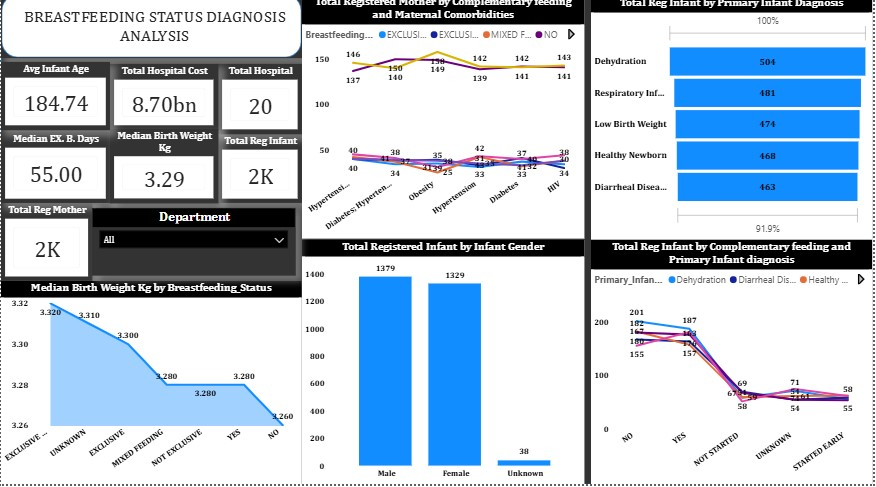

Layout of this report page (visuals, bound fields, positions):
{"tool":"powerbi","page":{"name":"Page 1","canvas":[1280,720],"ordinal":0},"visuals":[{"type":"shape","box":[0,0,1280,720.6],"z":0},{"type":"shape","box":[0,0,442.3,94],"z":1000},{"type":"textbox","box":[8.8,13.2,433.5,67.6],"z":2000},{"type":"cardVisual","title":"Total Reg Mother","fields":{"Data":["Clean_Breastfeeding.Total Registered Mother"]},"box":[0,307.4,134.4,114.2],"z":3000},{"type":"cardVisual","title":"Total Reg Infant","fields":{"Data":["Clean_Breastfeeding.Total Registered Infant"]},"box":[318.9,205.7,123.4,101.4],"z":4000},{"type":"cardVisual","title":"Total Hospital","fields":{"Data":["Clean_Breastfeeding.Total Hospital Visit"]},"box":[318.9,102.9,123.4,102.9],"z":5000},{"type":"cardVisual","title":"Total Hospital Cost","fields":{"Data":["Clean_Breastfeeding.Total Hospital Cost"]},"box":[160.2,102.9,158.7,97],"z":6000},{"type":"cardVisual","title":"Median EX. B. Days","fields":{"Data":["Clean_Breastfeeding.Median Exclusive Breastfeeding days"]},"box":[0,202.8,160.2,104.3],"z":7000},{"type":"cardVisual","title":"Median Birth Weight Kg","fields":{"Data":["Clean_Breastfeeding.Median Birth Weight Kg"]},"box":[160.2,198.4,158.7,108.7],"z":8000},{"type":"cardVisual","title":"Avg Infant Age ","fields":{"Data":["Clean_Breastfeeding.Avg Infant Age"]},"box":[0,99.9,160.2,99.9],"z":9000},{"type":"columnChart","title":"Total Registered Infant by Infant Gender","fields":{"Category":["Clean_Breastfeeding.Infant_Gender"],"Y":["Clean_Breastfeeding.Total Registered Infant"]},"box":[441.8,361.2,414.9,359.5],"z":10000},{"type":"lineChart","title":"Total Registered Mother by Complementary feeding and Maternal Comorbidities","fields":{"Category":["Clean_Breastfeeding.Maternal_Comorbidities"],"Y":["Clean_Breastfeeding.Total Registered Mother"],"Series":["Clean_Breastfeeding.Breastfeeding_Status"]},"box":[441.8,1.7,414.9,357.8],"z":11000},{"type":"funnel","title":"Total Reg Infant by Primary Infant Diagnosis","fields":{"Category":["Clean_Breastfeeding.Primary_Infant_Diagnosis"],"Y":["Clean_Breastfeeding.Total Registered Infant"]},"box":[866.8,3.4,413.2,357.8],"z":12000},{"type":"lineChart","title":"Total Reg Infant by Complementary feeding and Primary Infant diagnosis","fields":{"Category":["Clean_Breastfeeding.Complementary_Feeding"],"Series":["Clean_Breastfeeding.Primary_Infant_Diagnosis"],"Y":["Clean_Breastfeeding.Total Registered Infant"]},"box":[866.8,361.2,413.2,359.5],"z":13000},{"type":"areaChart","fields":{"Category":["Clean_Breastfeeding.Breastfeeding_Status"],"Y":["Clean_Breastfeeding.Median Birth Weight Kg"]},"box":[0,421.6,441.8,299],"z":14000},{"type":"slicer","title":"Department","fields":{"Values":["Clean_Breastfeeding.Department"]},"box":[134.4,314.1,299,99.1],"z":15000}]}

Visuals, with their boxes in screenshot pixels (x1, y1, x2, y2), scaled from the page's 1280x720 canvas onto the 876x487 screenshot:
shape: 0,0,875,486
shape: 0,0,303,64
textbox: 6,9,303,55
"Total Reg Mother" cardVisual: 0,208,92,285
"Total Reg Infant" cardVisual: 218,139,303,208
"Total Hospital" cardVisual: 218,70,303,139
"Total Hospital Cost" cardVisual: 110,70,218,135
"Median EX. B. Days" cardVisual: 0,137,110,208
"Median Birth Weight Kg" cardVisual: 110,134,218,208
"Avg Infant Age " cardVisual: 0,68,110,135
"Total Registered Infant by Infant Gender" columnChart: 302,244,586,486
"Total Registered Mother by Complementary feeding and Maternal Comorbidities" lineChart: 302,1,586,243
"Total Reg Infant by Primary Infant Diagnosis" funnel: 593,2,875,244
"Total Reg Infant by Complementary feeding and Primary Infant diagnosis" lineChart: 593,244,875,486
areaChart - Clean_Breastfeeding.Breastfeeding_Status x Clean_Breastfeeding.Median Birth Weight Kg: 0,285,302,486
"Department" slicer: 92,212,297,279
